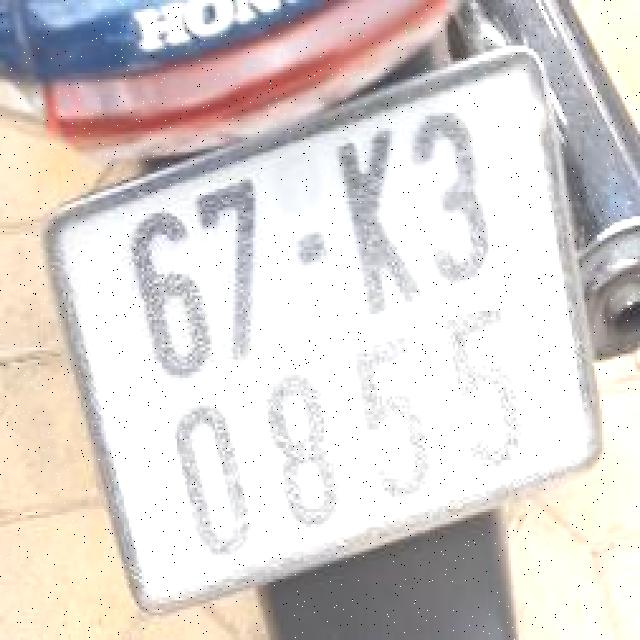0: (163, 386, 257, 559)
3: (412, 104, 501, 296)
5: (354, 320, 440, 506), (441, 299, 510, 460)
6: (126, 204, 217, 381)
7: (198, 181, 274, 361)
8: (257, 363, 350, 533)
K: (319, 126, 415, 322)
